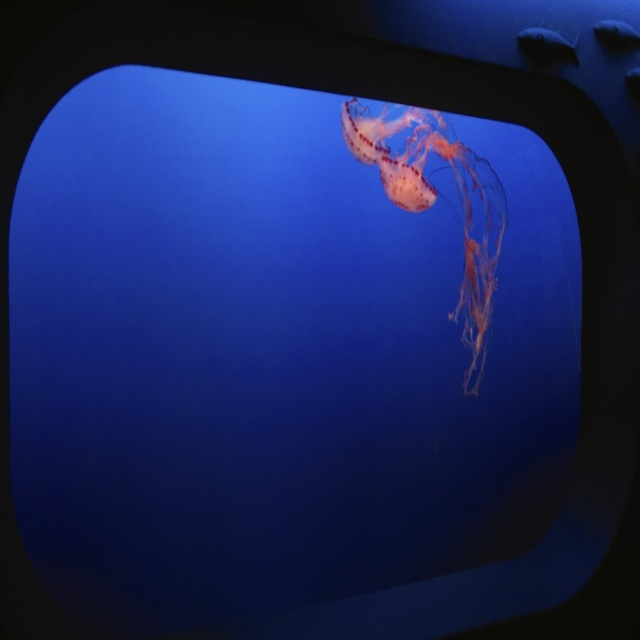Jellyfish: (379, 121, 508, 398), (341, 93, 450, 166)
